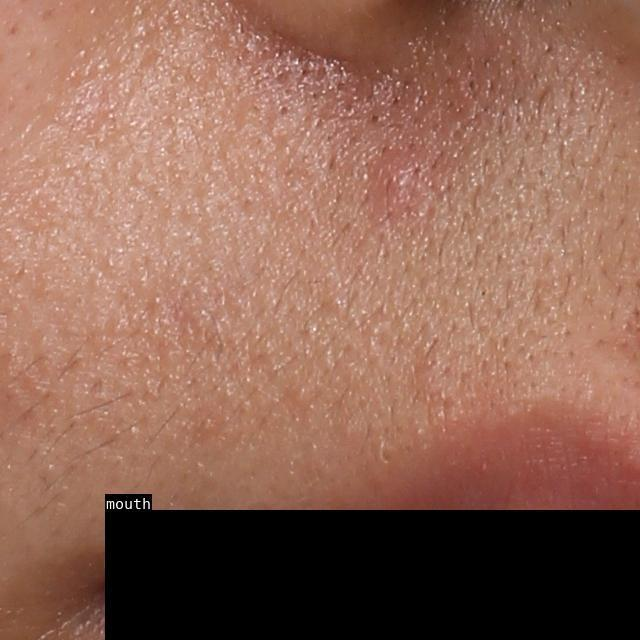comedo: (378, 447, 393, 467)
papule: (364, 150, 427, 220)
